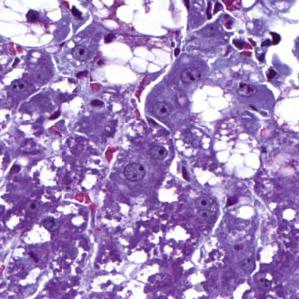ballooning: (89, 4, 190, 90), (4, 2, 66, 51), (208, 129, 264, 183)
